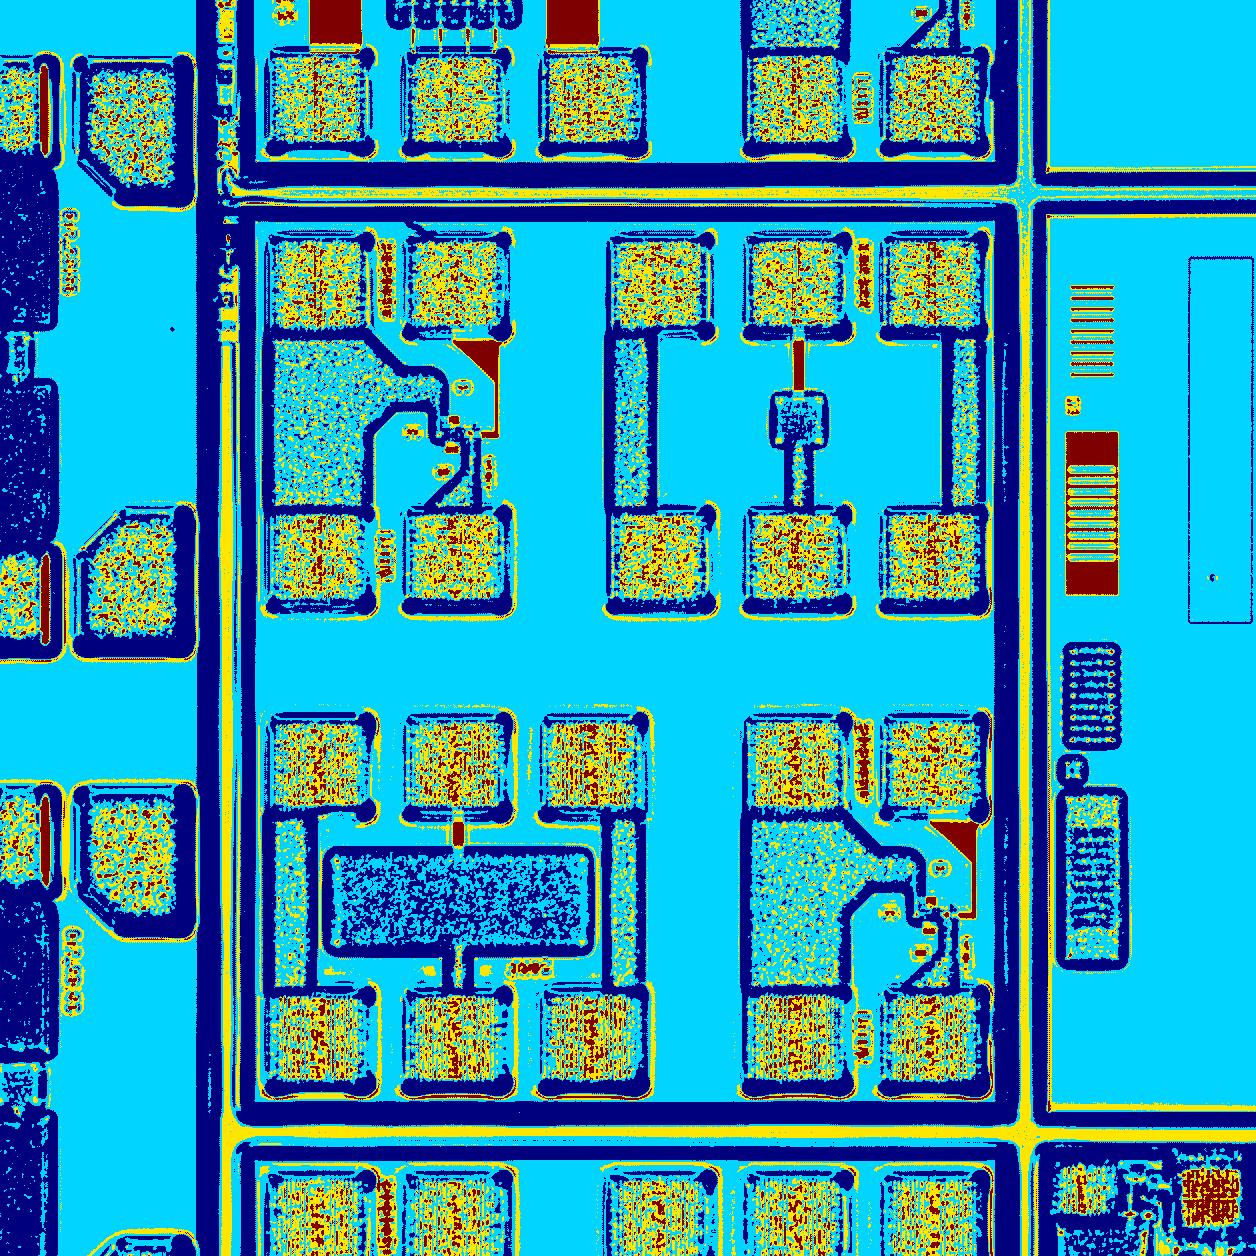Die: (235, 197, 1020, 1124)
Pad 3: (271, 242, 363, 329), (890, 240, 980, 326), (612, 242, 700, 327), (889, 722, 979, 806), (412, 514, 499, 599), (412, 242, 499, 326), (616, 515, 702, 600), (549, 995, 634, 1080), (276, 514, 360, 600), (890, 515, 975, 599), (889, 996, 974, 1080), (752, 515, 838, 598), (753, 240, 836, 326), (756, 722, 838, 807), (551, 723, 634, 806), (415, 722, 498, 805), (755, 995, 836, 1079), (278, 996, 359, 1080), (276, 723, 357, 806), (415, 996, 495, 1080)
